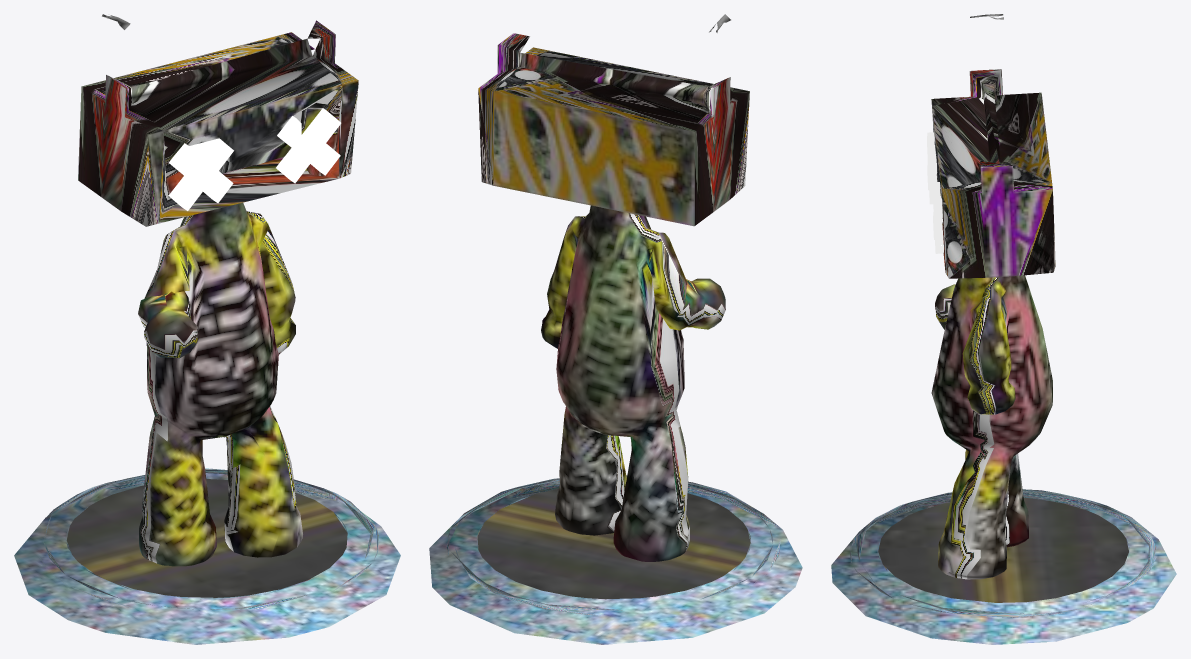
3 views of the same model, side by side, from view 1: azimuth 30°, elevation 25°; view 2: azimuth 150°, elevation 25°; view 3: azimuth 270°, elevation 25° (orthographic). The views are drawn at different scales.
Size of the model in its own units: 1.44 by 2.37 by 1.44.
Materials: 6 (4 with a texture image).
